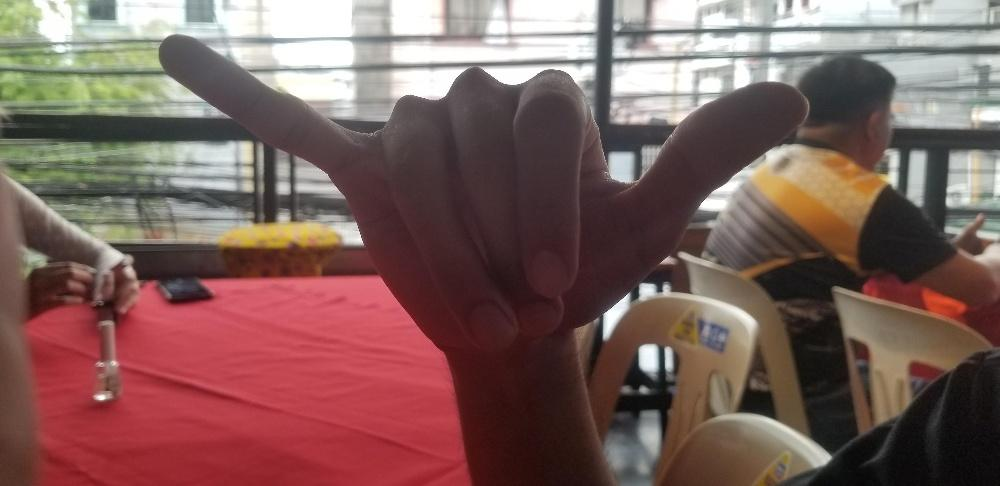y: (156, 29, 811, 359)
